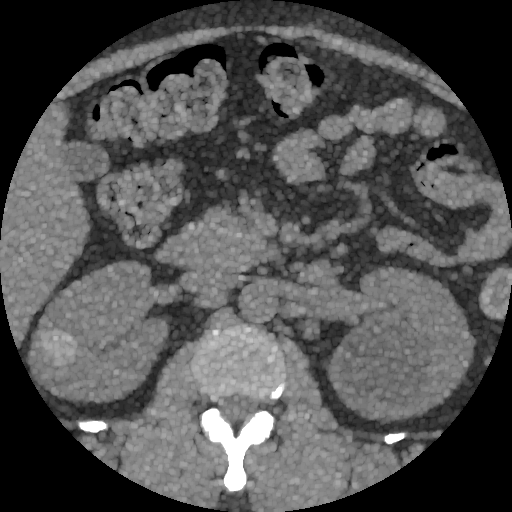Lesion: (34, 325, 80, 371)
